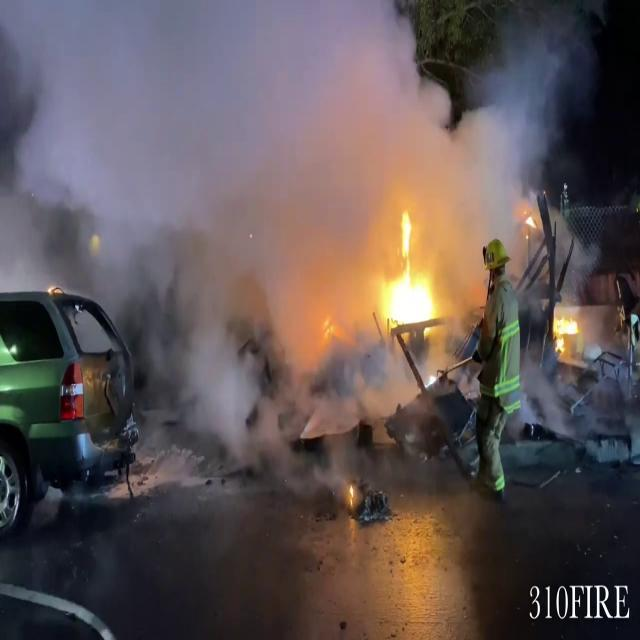Fire: (376, 210, 446, 334)
Smoke: (0, 0, 594, 480)
